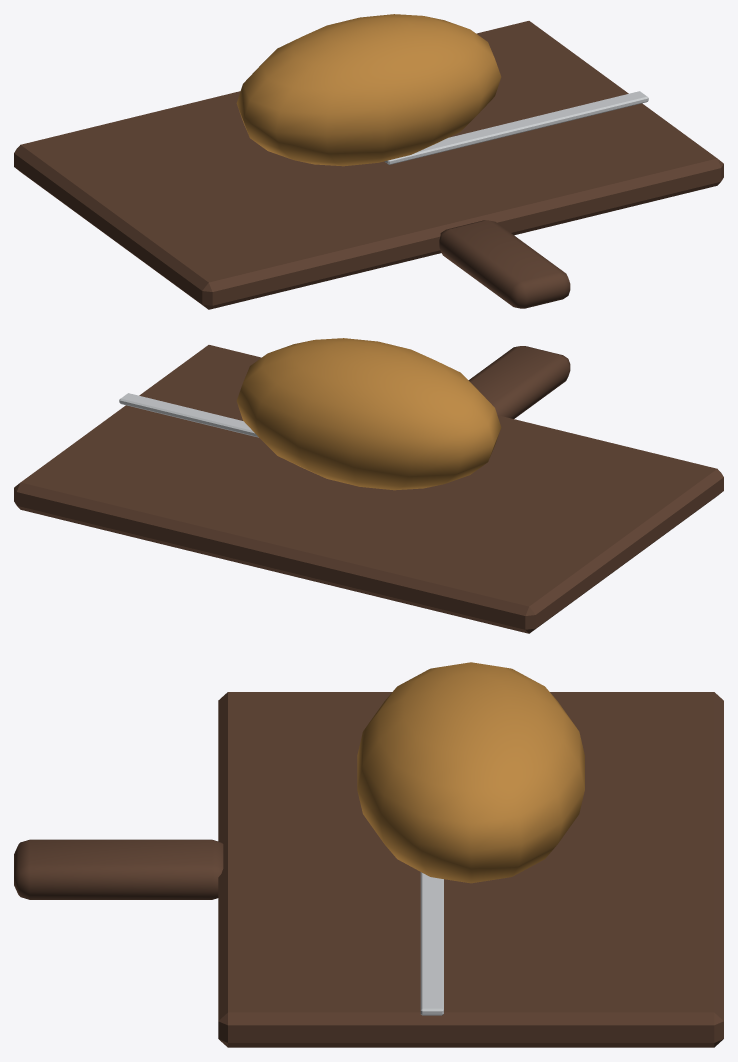
File: i_board_3.glb
3 views of the same model, one above another, from view 1: azimuth 30°, elevation 25°; view 2: azimuth 150°, elevation 25°; view 3: azimuth 270°, elevation 25° (orthographic). The views are drawn at different scales.
Visible parts, largest first — view 1: o, o.002, o.001, o.003; view 2: o, o.002, o.001, o.003; view 3: o, o.002, o.001, o.003.
Part boxes in pixels (x1,y1,x2,y2): o: (14,21,723,309); o.002: (236,14,501,166); o.001: (439,220,570,308); o.003: (384,91,648,164); o: (14,345,723,633); o.002: (236,338,501,490); o.001: (468,346,570,418); o.003: (119,393,258,437); o: (218,692,723,1047); o.002: (357,662,584,883); o.001: (14,839,223,899); o.003: (420,872,443,1015).
Size of the model in its own units: 0.4 by 0.11 by 0.365.
